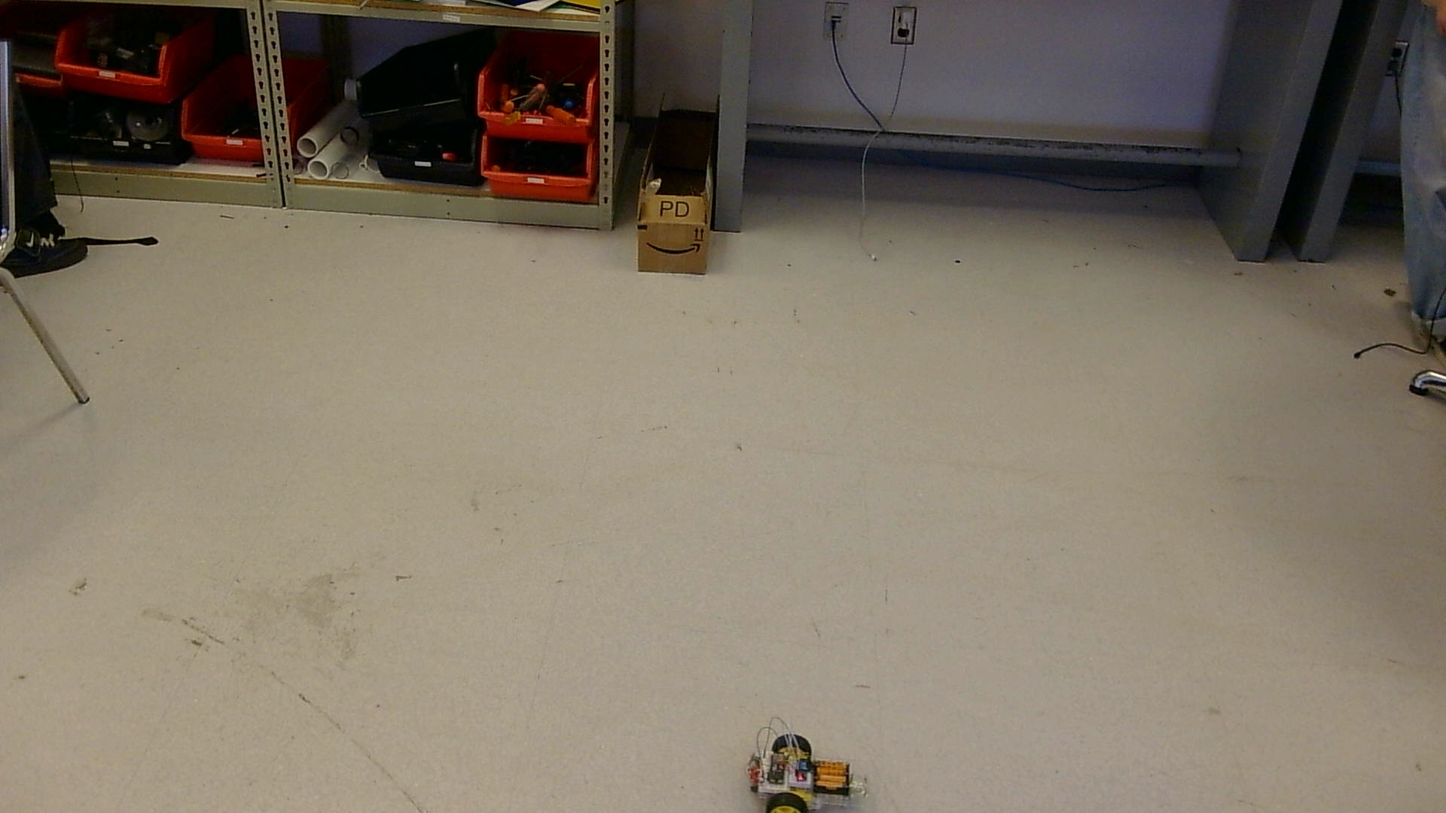robot: (745, 717, 866, 812)
